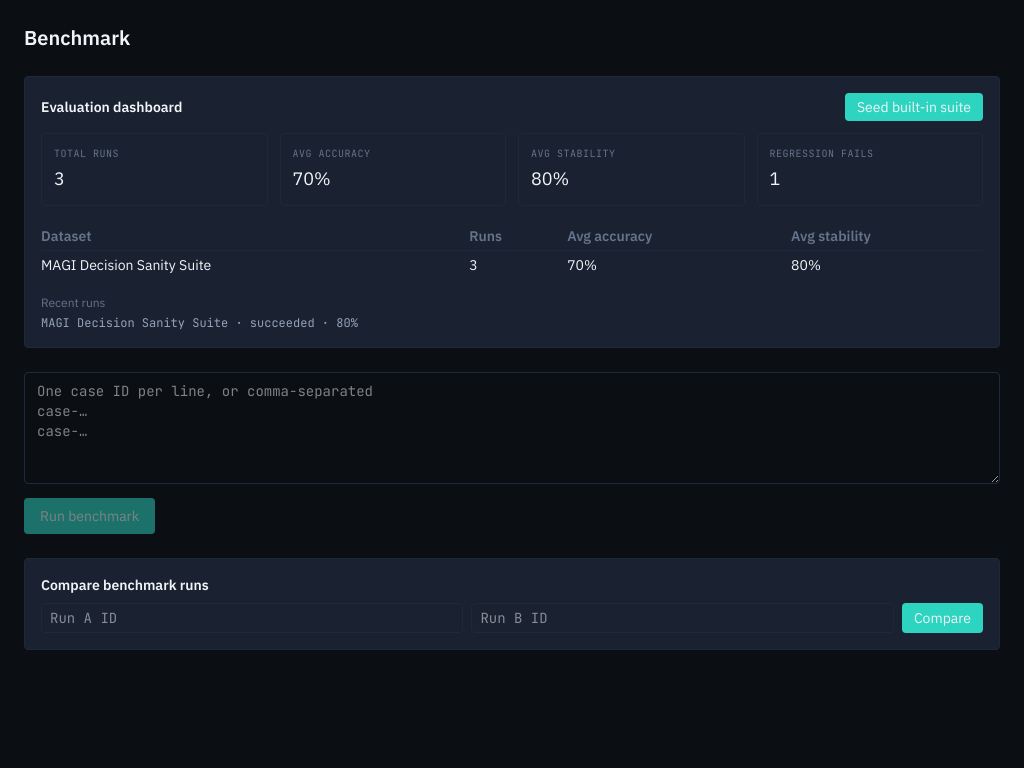
Scenario: Benchmark page › renders the evaluation dashboard and seeds the built-in suite
Check: the text "MAGI Decision Sanity Suite" is shown, box [41,250,469,279]
Click the button "Seed built-in suite" at [914, 107], box [845,93,983,121]
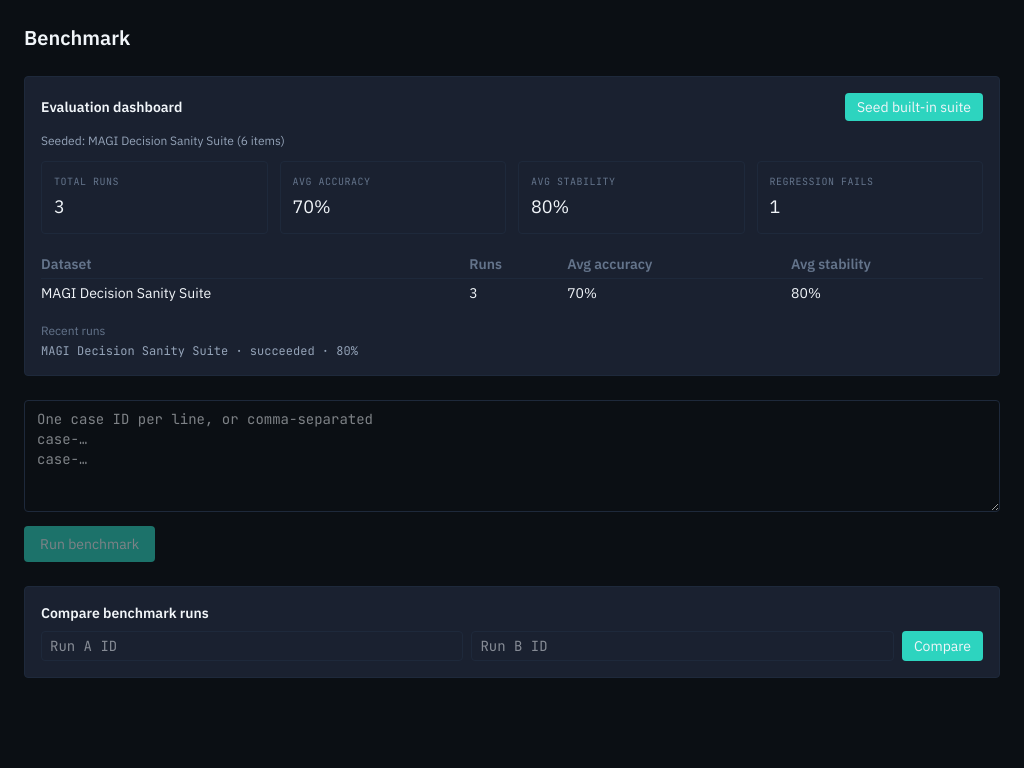
Check: the text "6 items" is shown, box [41,133,285,148]
